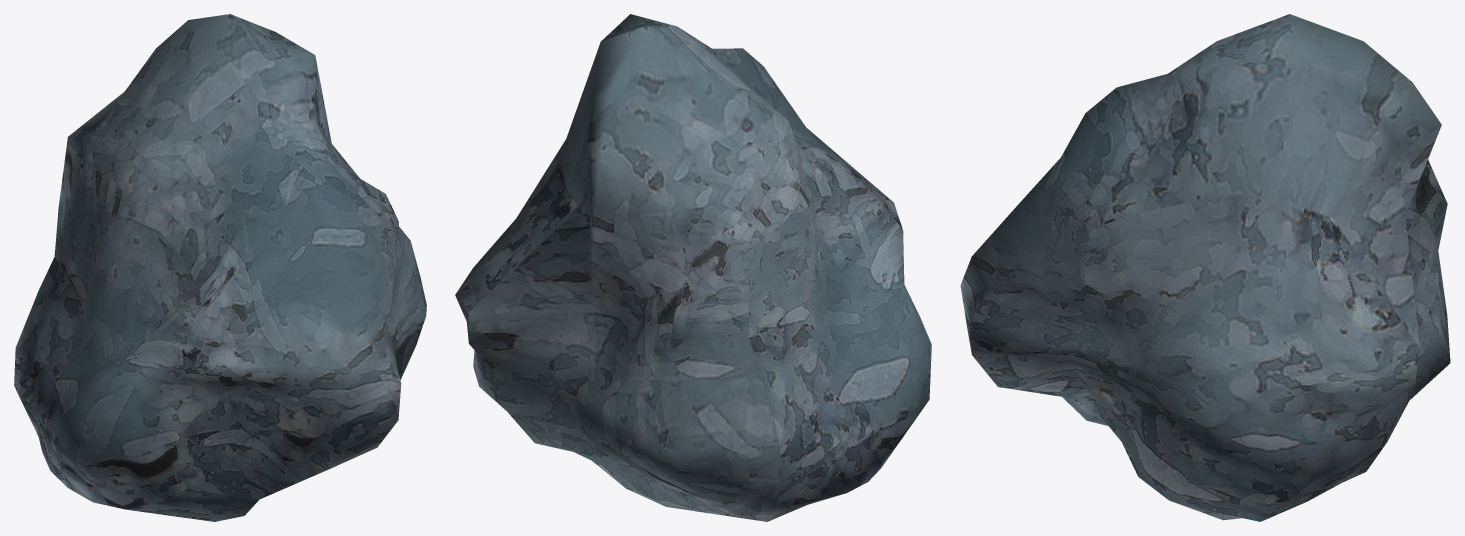
The model's file is rock52.fbx.
The picture shows the model from 3 angles, left to right: view 1: azimuth 30°, elevation 25°; view 2: azimuth 150°, elevation 25°; view 3: azimuth 270°, elevation 25°; orthographic projection. The views are drawn at different scales.
Parts seen in each view (by area): view 1: pCube46; view 2: pCube46; view 3: pCube46.
Part boxes in pixels (x1,y1,x2,y2): pCube46: (14,14,426,521); pCube46: (455,14,931,521); pCube46: (960,14,1450,521).
Size of the model in its own units: 6.64 by 7.67 by 6.87.
